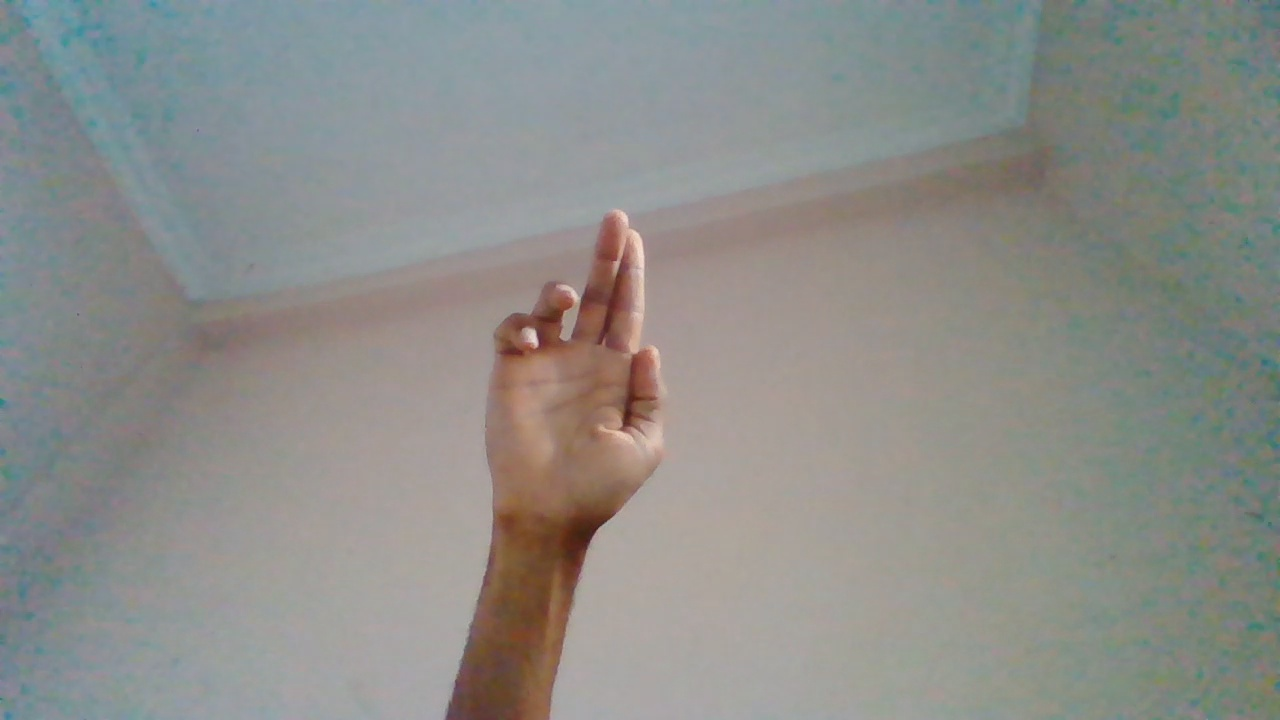gne: (485, 211, 674, 630)
